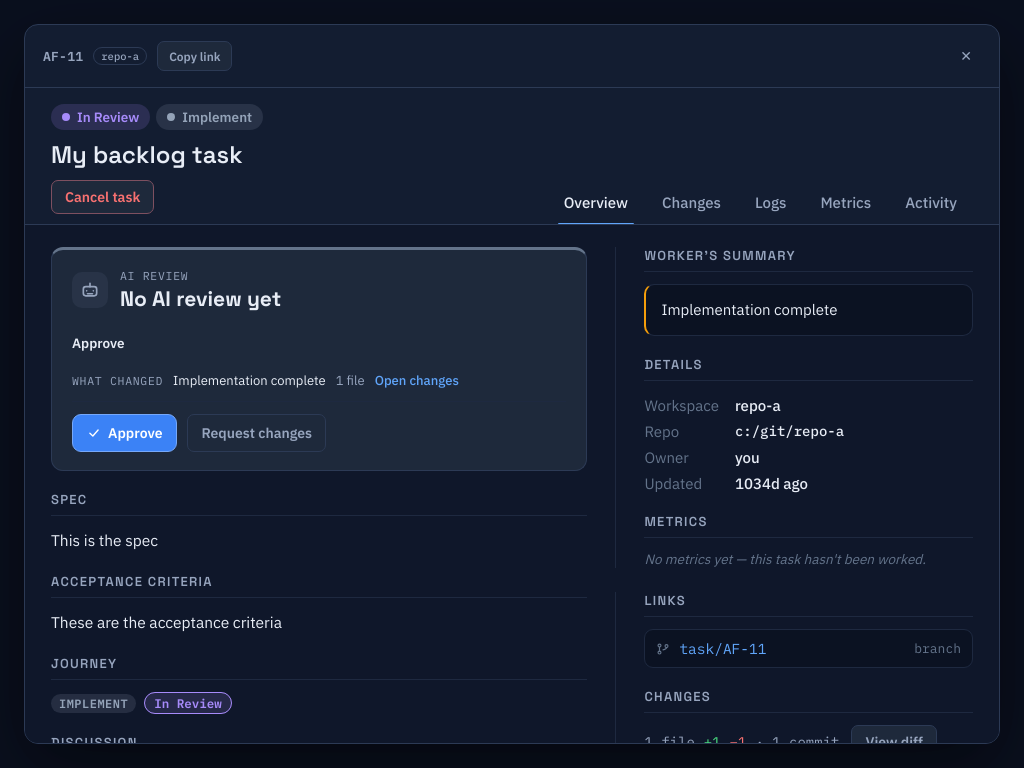
Test: DetailPanel › tabbed layout › renders the diff inline on the Changes tab
Expected: the text "Implementation complete" below "Worker's summary" is shown, [661,300,838,319]
Click the tab "Changes" at (691, 202), box [646,180,737,224]
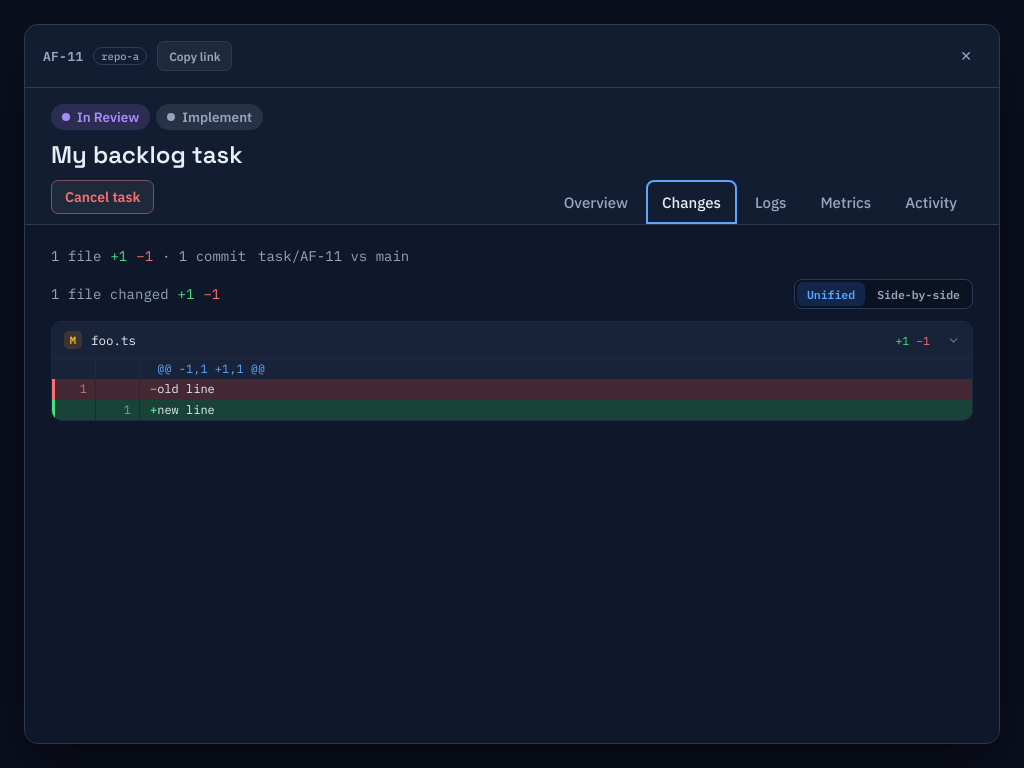
Result: the text "new line" is shown at [157,402,215,417]
